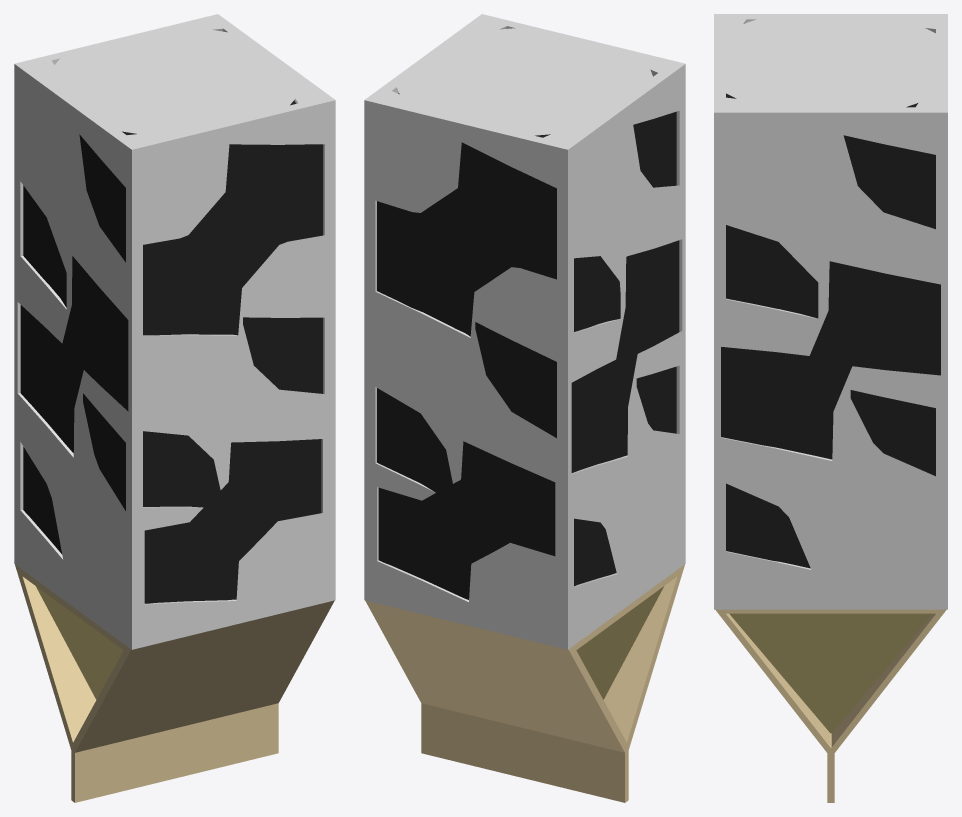
Rendered from Milk.fbx.
3 renders of one model, left to right at view 1: azimuth 30°, elevation 25°; view 2: azimuth 150°, elevation 25°; view 3: azimuth 270°, elevation 25°, orthographic.
Parts seen in each view (by area): view 1: Cube, Cube.003, Cube.001; view 2: Cube, Cube.003, Cube.001; view 3: Cube, Cube.003, Cube.001.
Part boxes in pixels (left/top/right/bottom): Cube: left=14, top=14, right=335, bottom=649; Cube.003: left=20, top=100, right=322, bottom=603; Cube.001: left=15, top=564, right=334, bottom=802; Cube: left=364, top=14, right=685, bottom=649; Cube.003: left=377, top=93, right=679, bottom=599; Cube.001: left=365, top=564, right=684, bottom=802; Cube: left=714, top=14, right=947, bottom=609; Cube.003: left=721, top=93, right=940, bottom=568; Cube.001: left=715, top=609, right=946, bottom=802.
Bounding box in the file's own units: 200 × 652 × 200.
